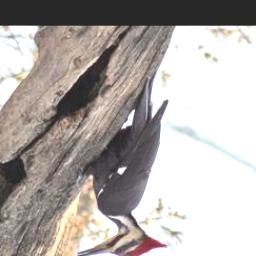Woodpecker: (73, 75, 171, 256)
